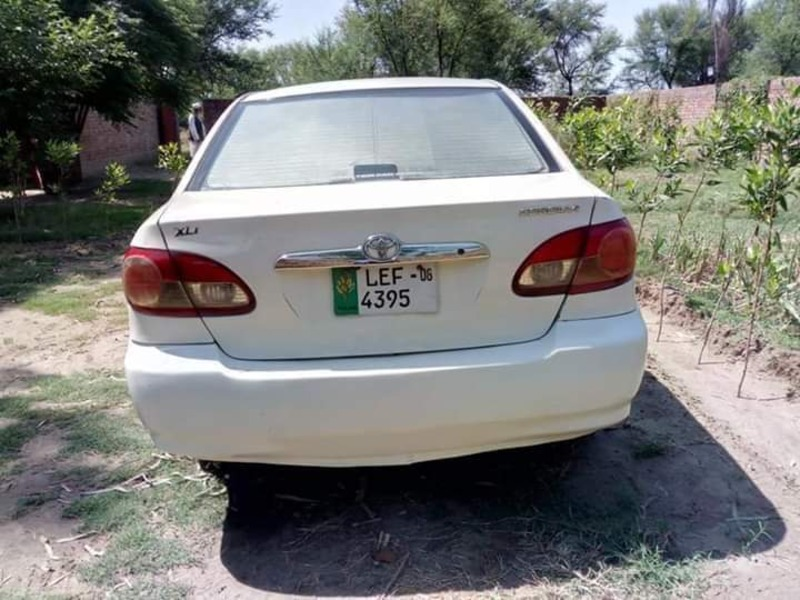License Plate: (327, 258, 446, 321)
